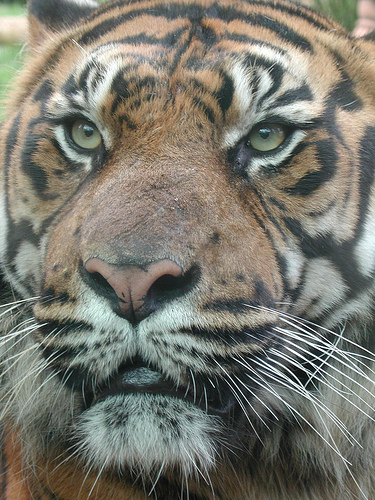Tigre: (11, 7, 363, 454)
